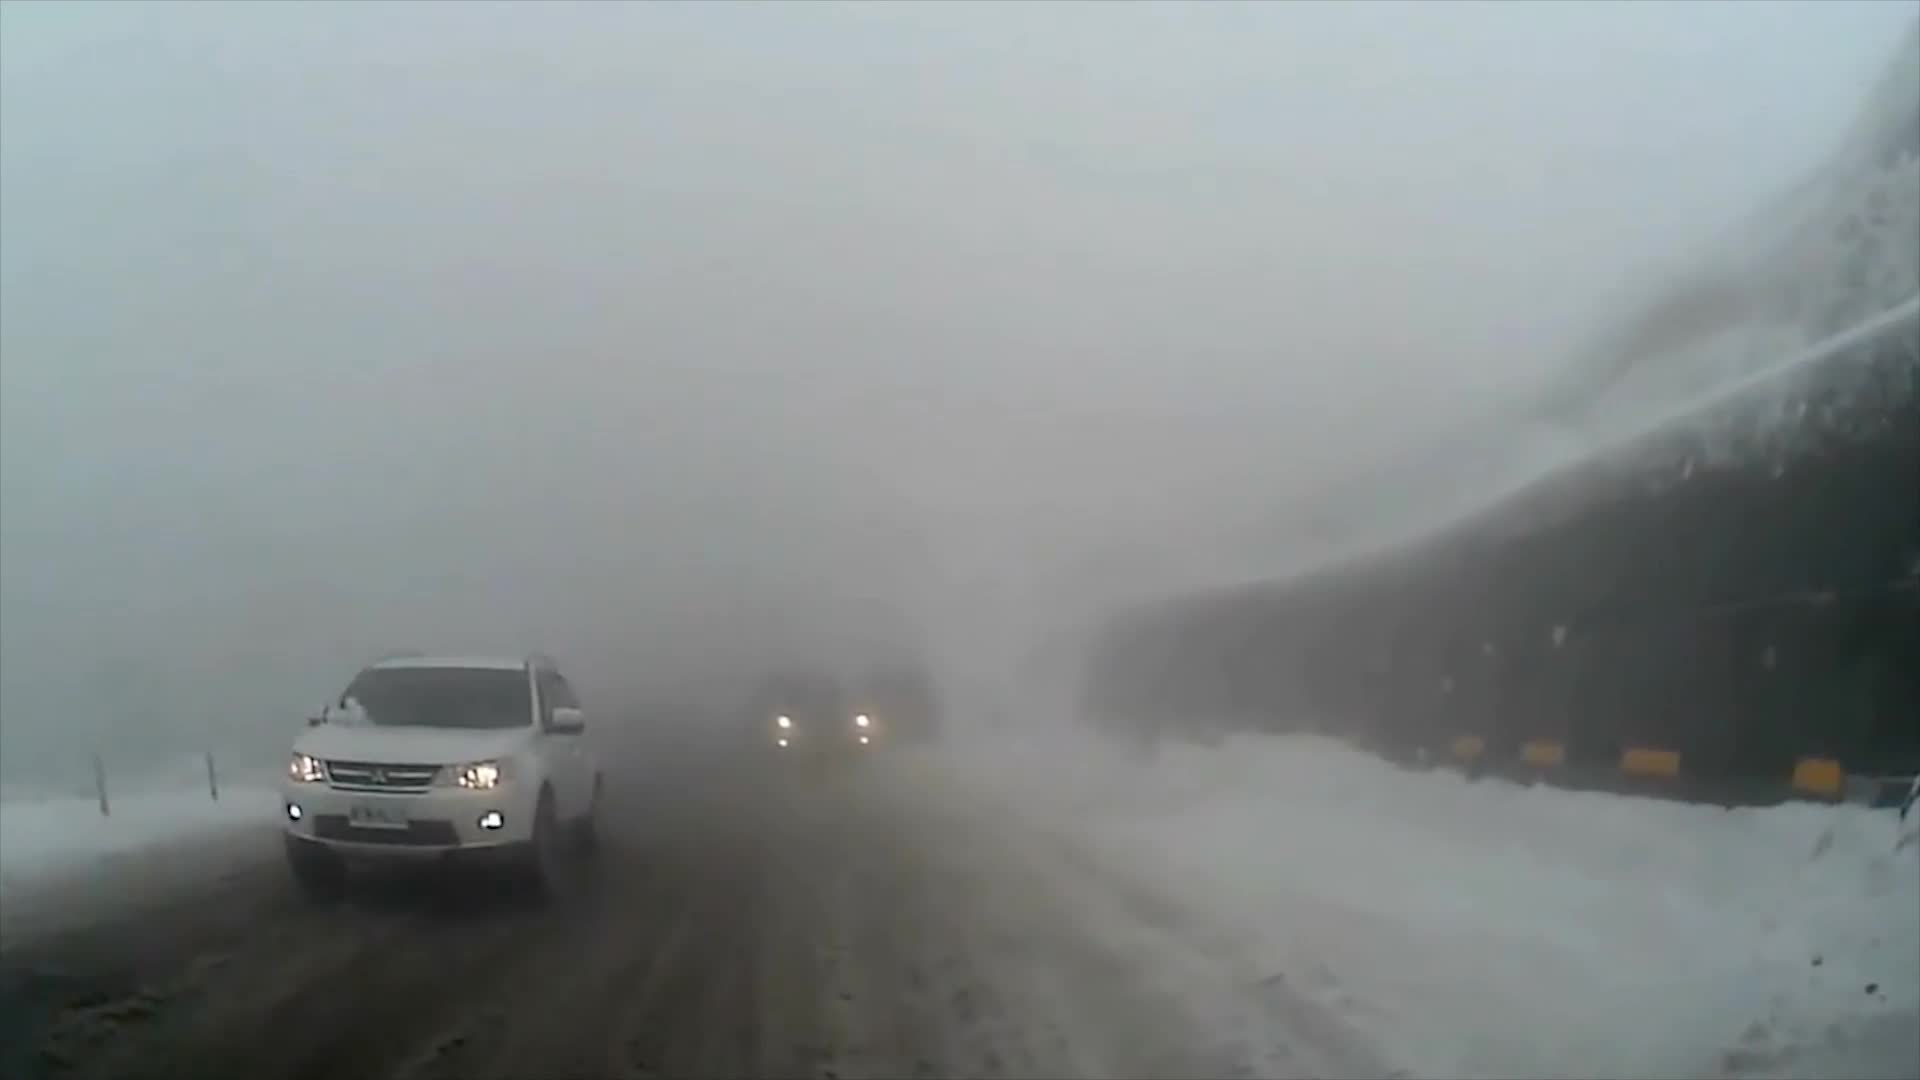vehicle: (276, 645, 608, 910), (735, 680, 877, 785)
